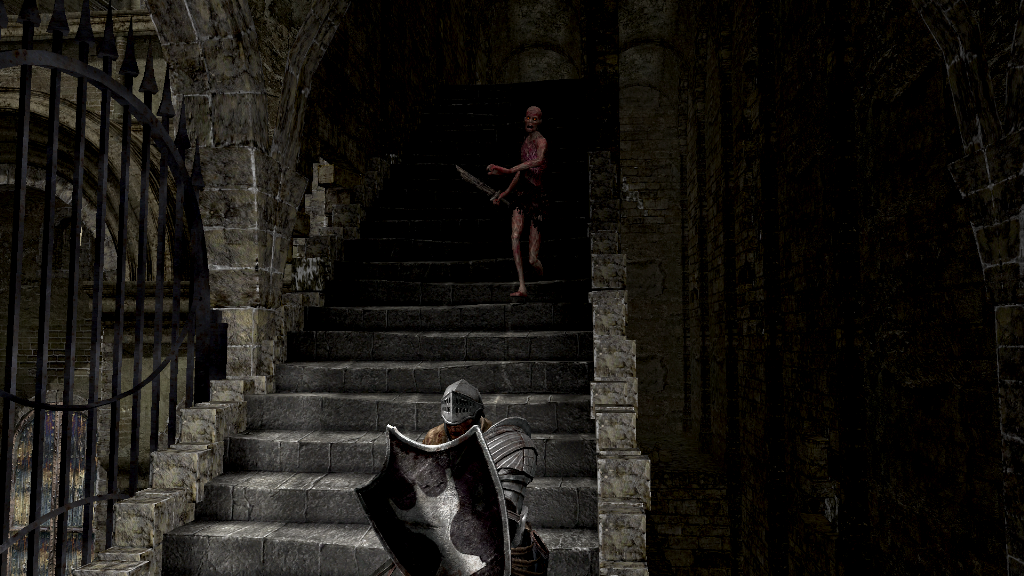hollow: (487, 104, 550, 300)
player: (353, 376, 554, 576)
